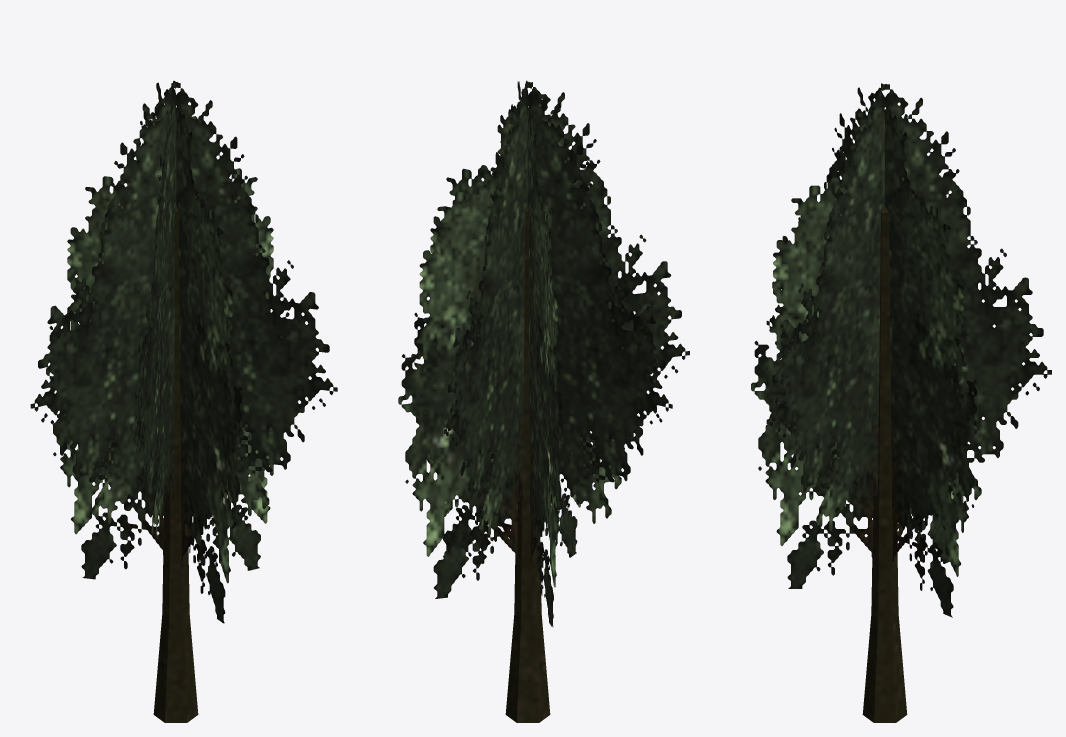
File: tree03.glb
3 renders of one model, left to right at view 1: azimuth 30°, elevation 25°; view 2: azimuth 150°, elevation 25°; view 3: azimuth 270°, elevation 25°, orthographic.
Parts seen in each view (by area): view 1: tree03; view 2: tree03; view 3: tree03.
Part boxes in pixels (x1,y1,x2,y2): tree03: (30,81,337,722); tree03: (398,80,689,722); tree03: (751,83,1051,722).
Bounding box in the file's own units: 6 × 12.5 × 6.
Materials: 1 (1 with a texture image).
